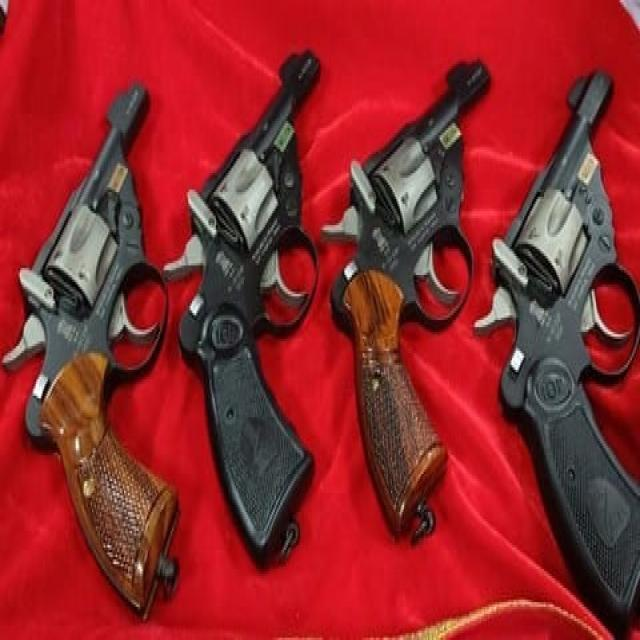handgun: (4, 78, 179, 624), (493, 66, 640, 628), (329, 56, 493, 538), (188, 64, 315, 562)
